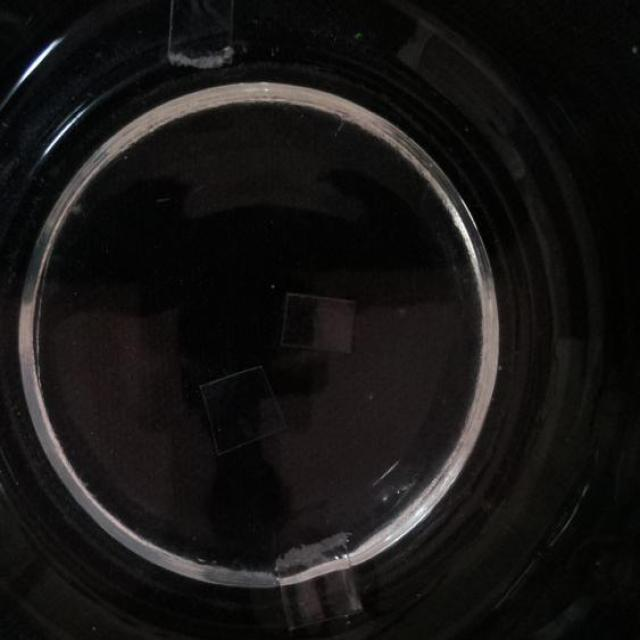fiber: (275, 529, 366, 634), (198, 366, 291, 459), (164, 0, 238, 72), (280, 289, 359, 355)
